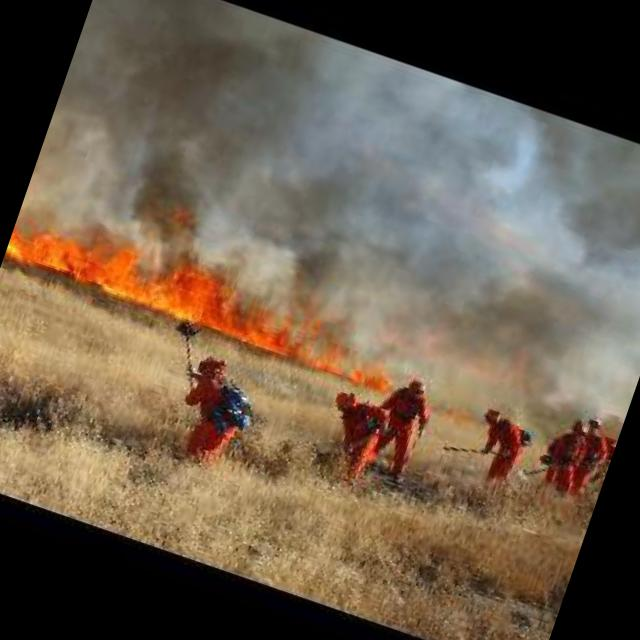fire: (4, 160, 414, 385)
smoke: (64, 0, 276, 275), (268, 202, 365, 333)
